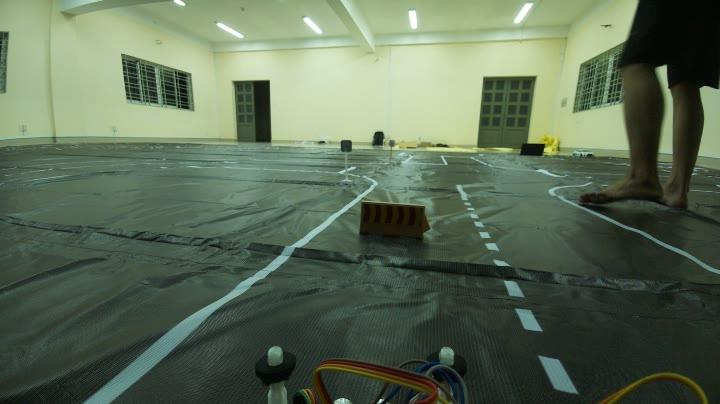roadblock: (352, 197, 438, 252)
